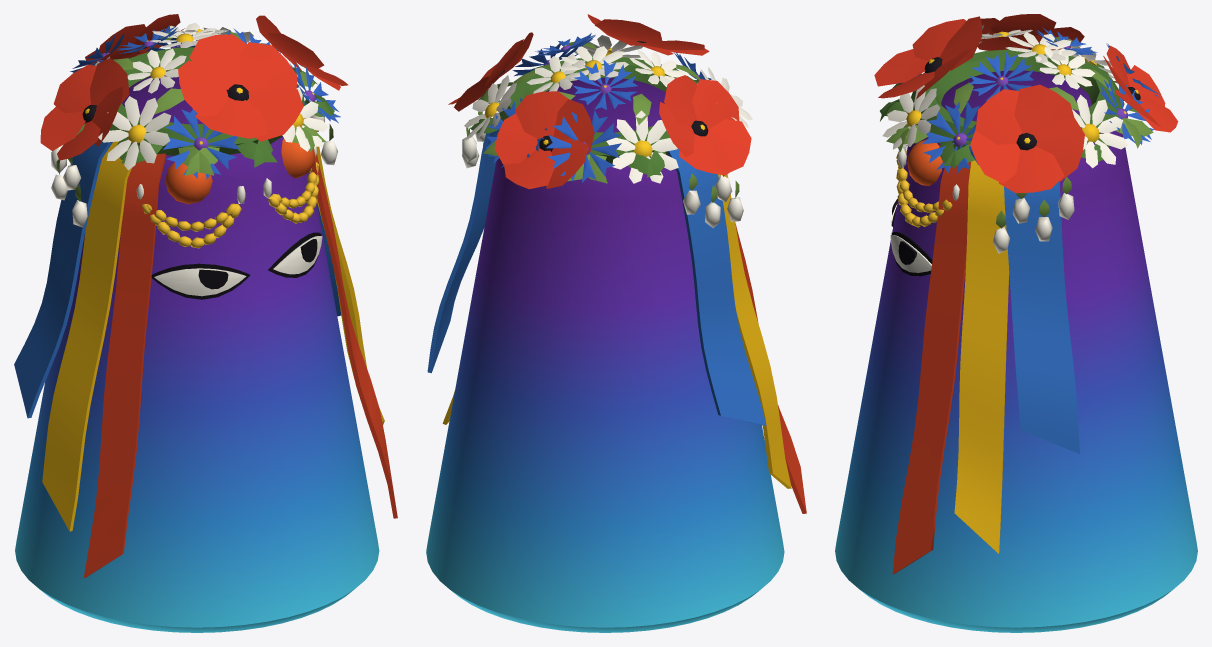
Rendered from fig4_vinok.fbx.
The picture shows the model from 3 angles, left to right: view 1: azimuth 30°, elevation 25°; view 2: azimuth 150°, elevation 25°; view 3: azimuth 270°, elevation 25°; orthographic projection.
Parts seen in each view (by area): view 1: fig4_vinok; view 2: fig4_vinok; view 3: fig4_vinok.
Part boxes in pixels (x1,y1,x2,y2): fig4_vinok: (14, 14, 397, 632); fig4_vinok: (426, 14, 806, 632); fig4_vinok: (835, 14, 1197, 632).
Bounding box in the file's own units: 214 × 323 × 198.
1 material, 1 textured.
